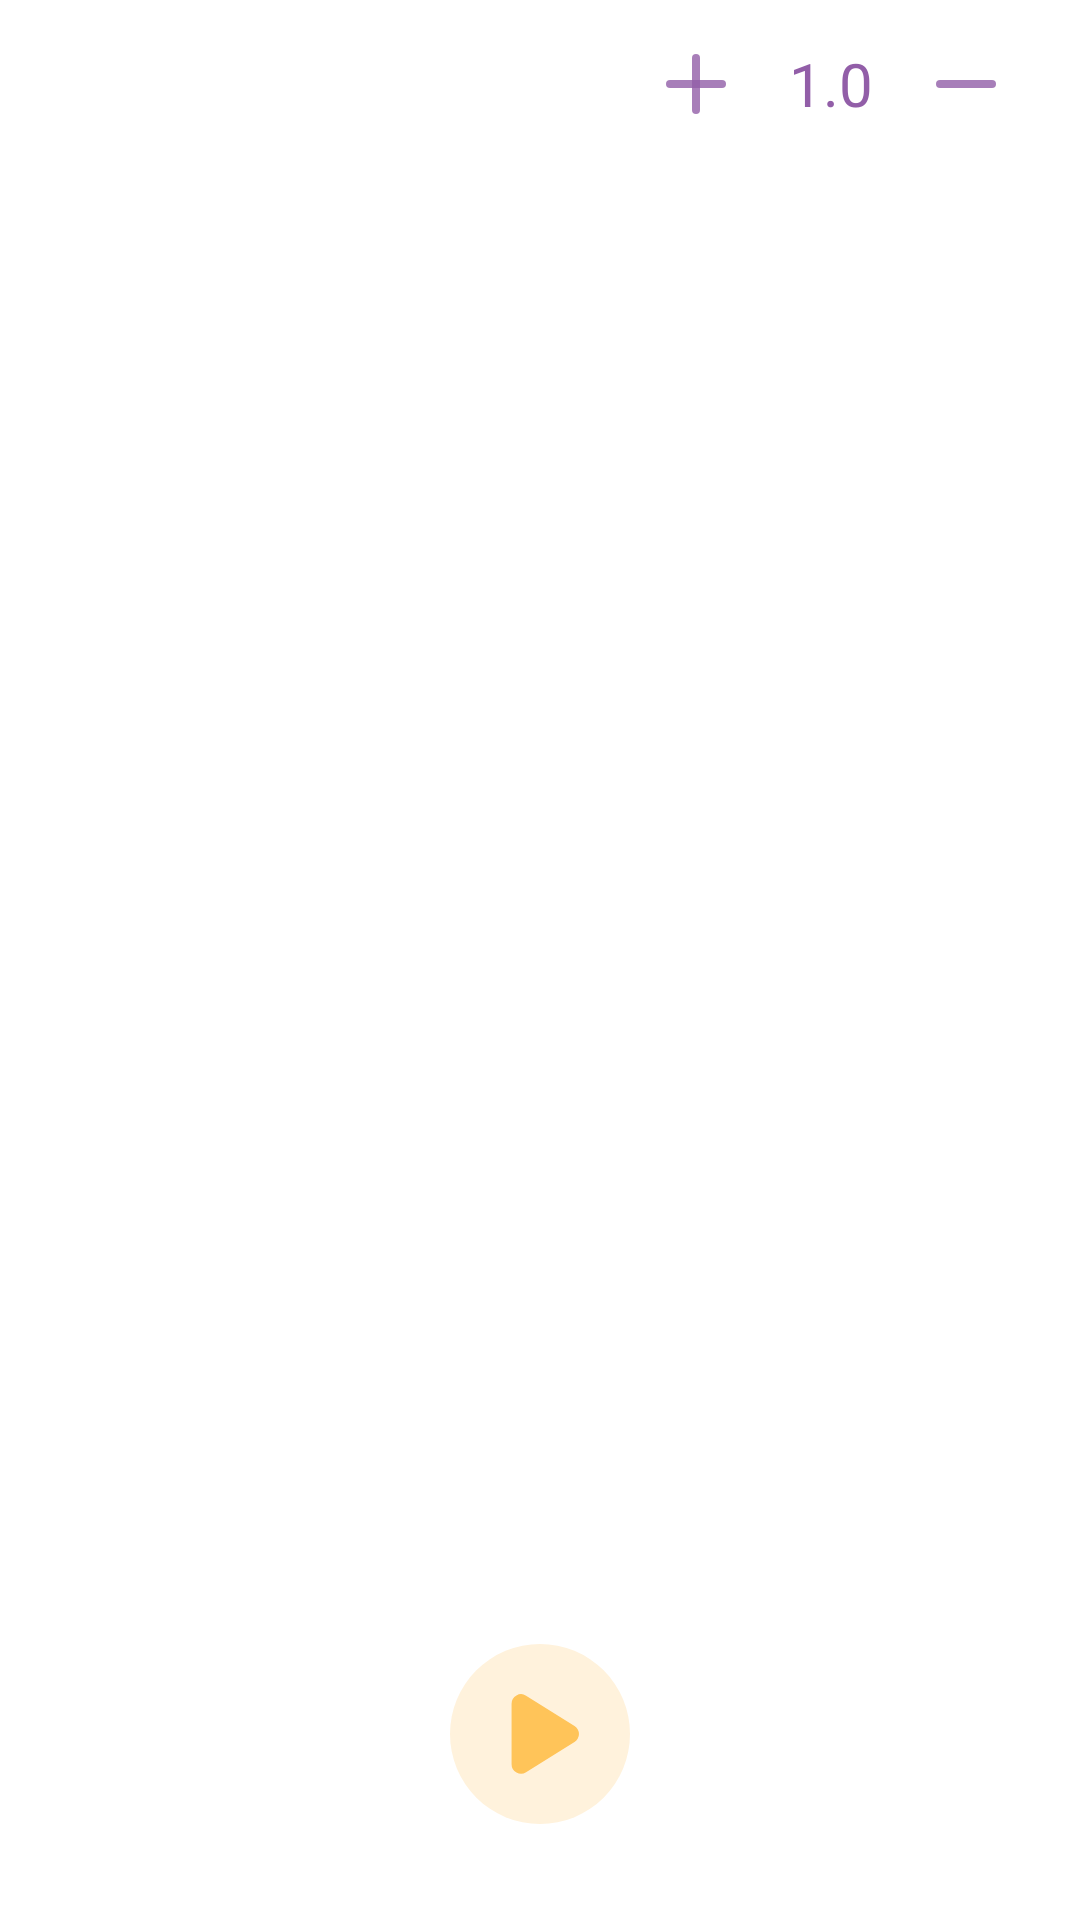

Locate icon controls on the screen. Image size 1080*1920, boxes as (x1, y1, x2, y2).
add: (666, 54, 726, 114)
player start: (450, 1644, 630, 1824)
